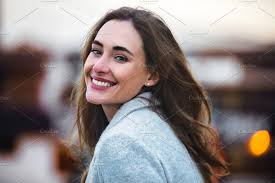white_female: (77, 18, 151, 103)
